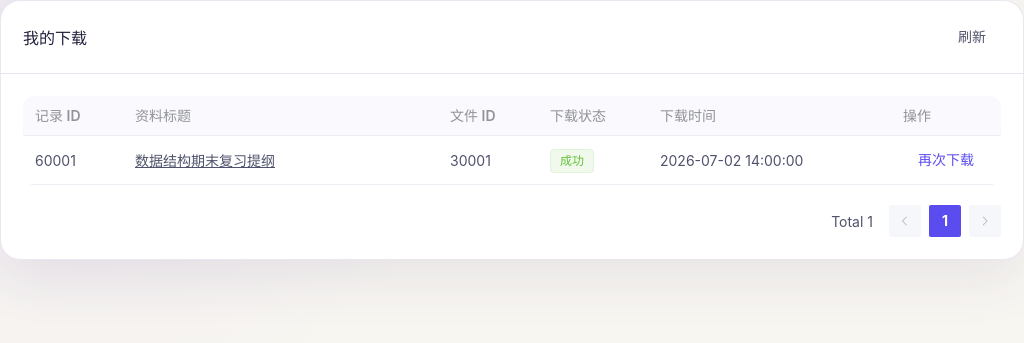
Test case: MyDownloadsView › 应展示下载记录，并按两步流程再次下载
Click the button with test id "redownload-20001".
click(946, 160)  # box left=903, top=144, right=989, bottom=176
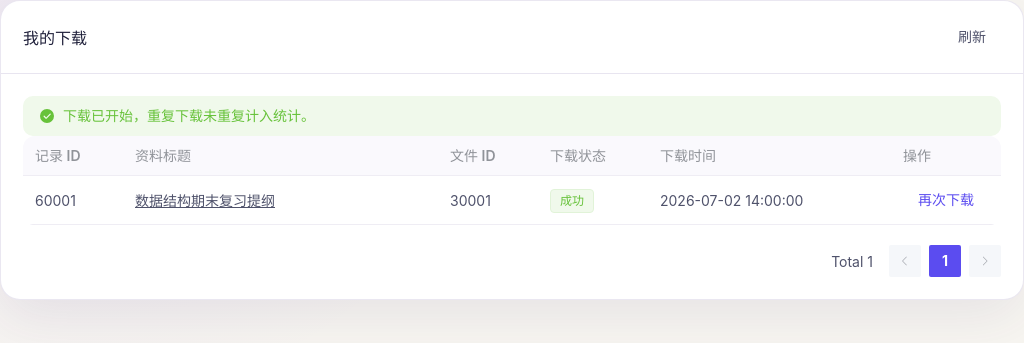
Check: the text "重复下载未重复计入统计" is shown, box left=63, top=107, right=315, bottom=124
